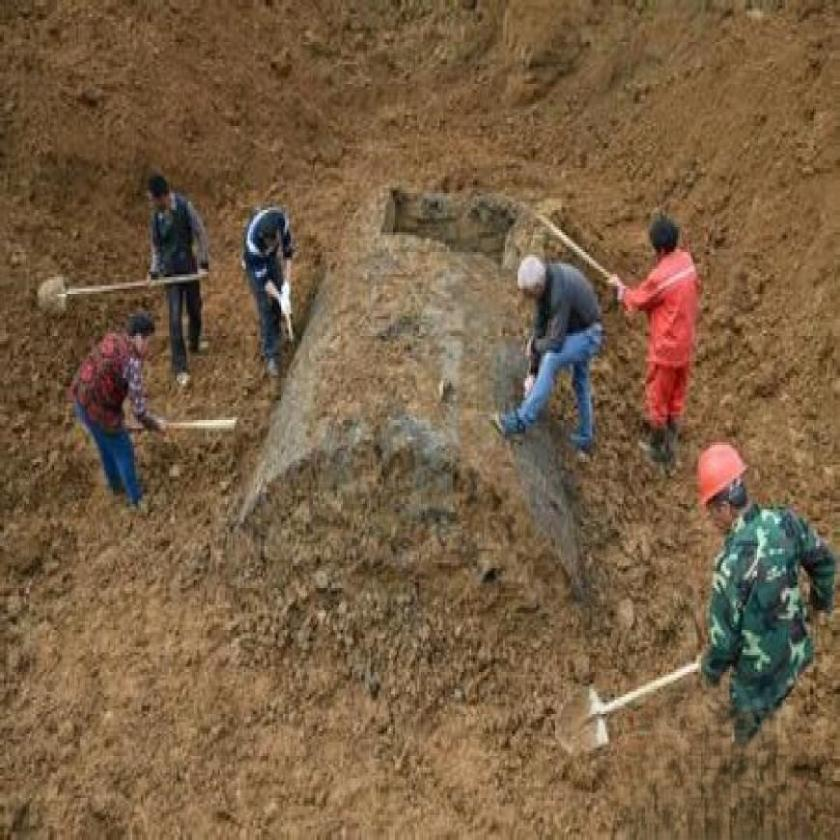Sin_casco: (505, 230, 550, 322), (139, 151, 187, 232), (118, 291, 170, 363), (637, 204, 685, 270), (252, 201, 301, 255)
